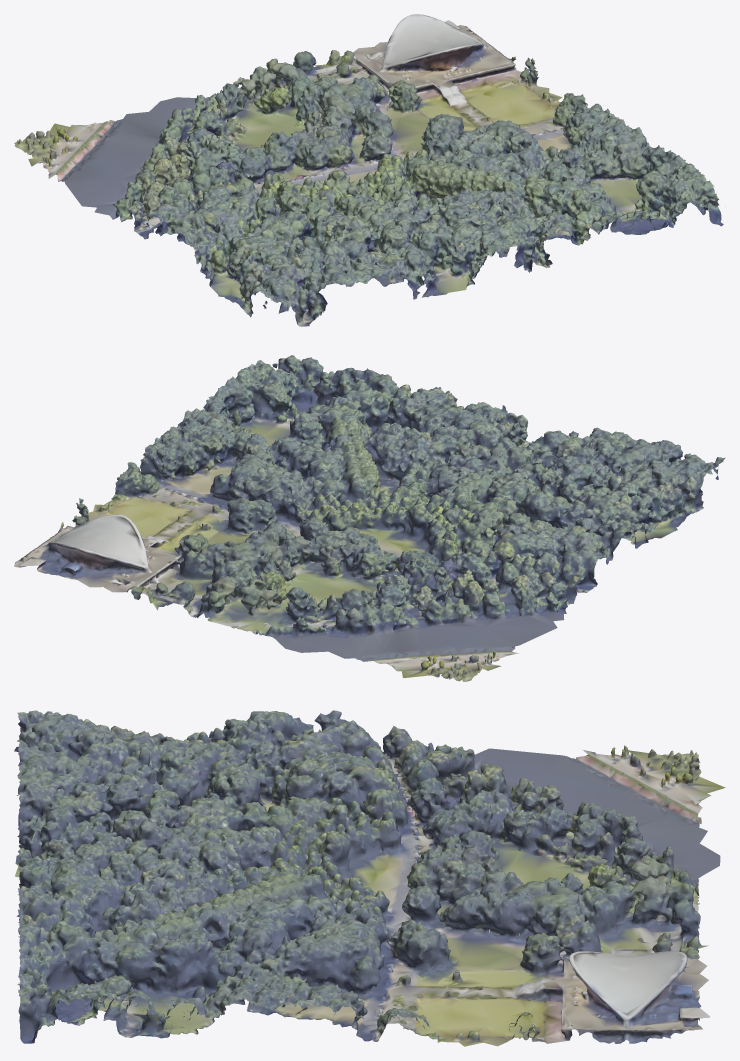
File: surface-detail-3887_58196.glb
3 renders of one model, top to bottom at view 1: azimuth 30°, elevation 25°; view 2: azimuth 150°, elevation 25°; view 3: azimuth 270°, elevation 25°, orthographic. The views are drawn at different scales.
Parts seen in each view (by area): view 1: world; view 2: world; view 3: world.
Part boxes in pixels (x1=…): world: x1=14, y1=14, x2=723, y2=326; world: x1=14, y1=355, x2=725, y2=681; world: x1=14, y1=710, x2=725, y2=1046.
Bounding box in the file's own units: 377 × 33.82 × 379.
